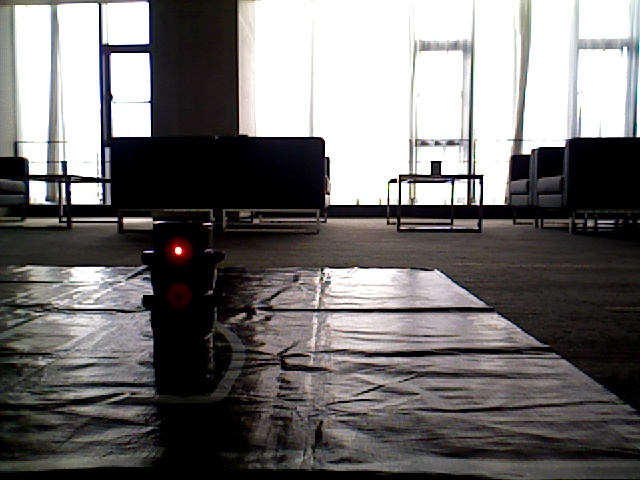red: (151, 226, 210, 341)
